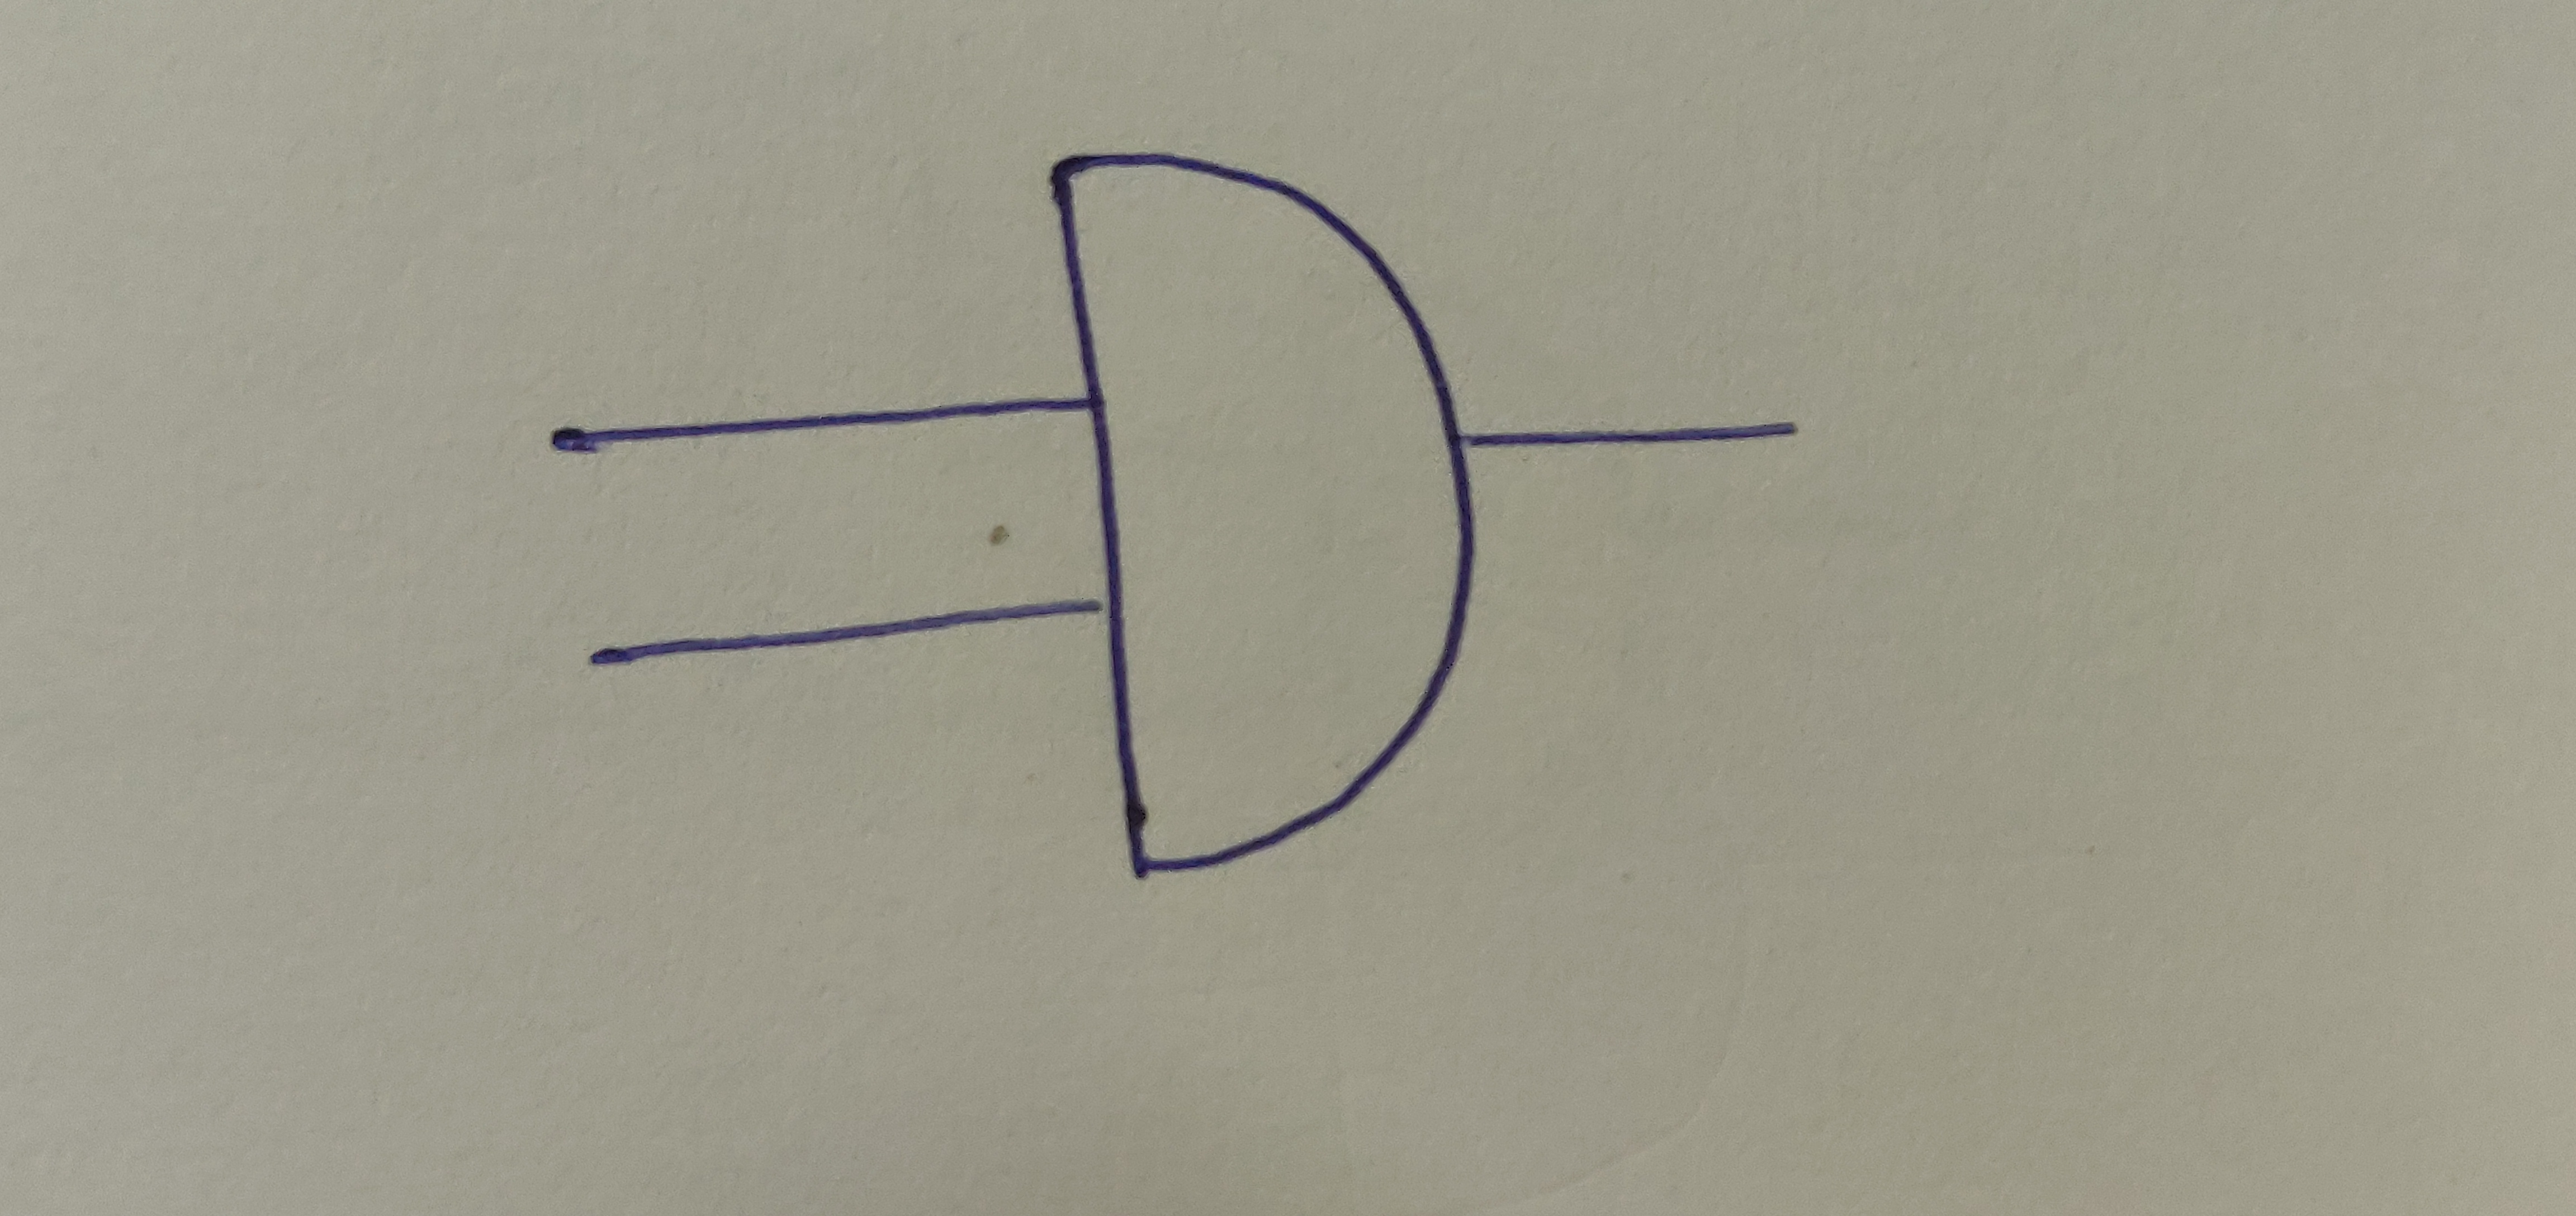and: (1046, 146, 1475, 879)
